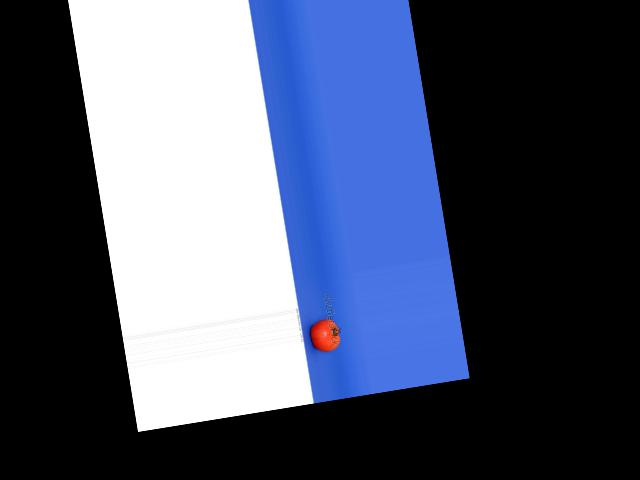tomato: (308, 318, 342, 354)
